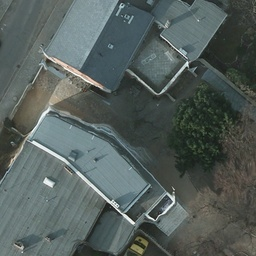car: (0, 37, 6, 71)
